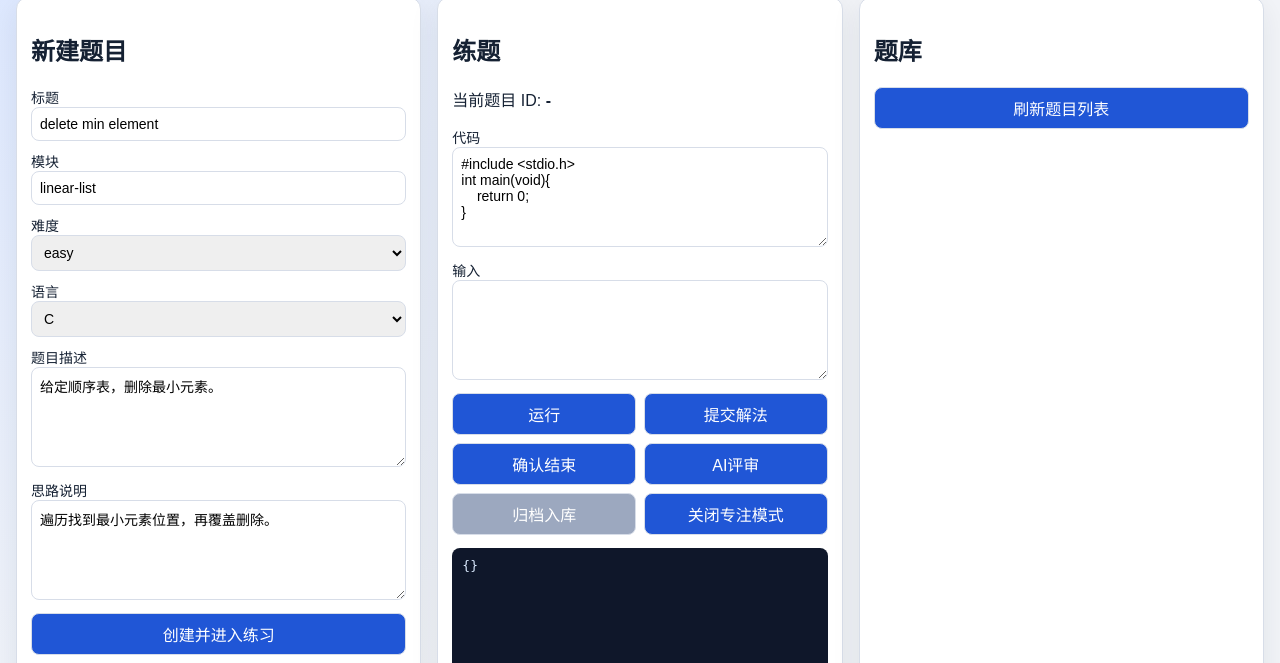
Test: shows low score style and fail badge
Click the button "创建并进入练习" at [219, 634], box [31,613,406,655]
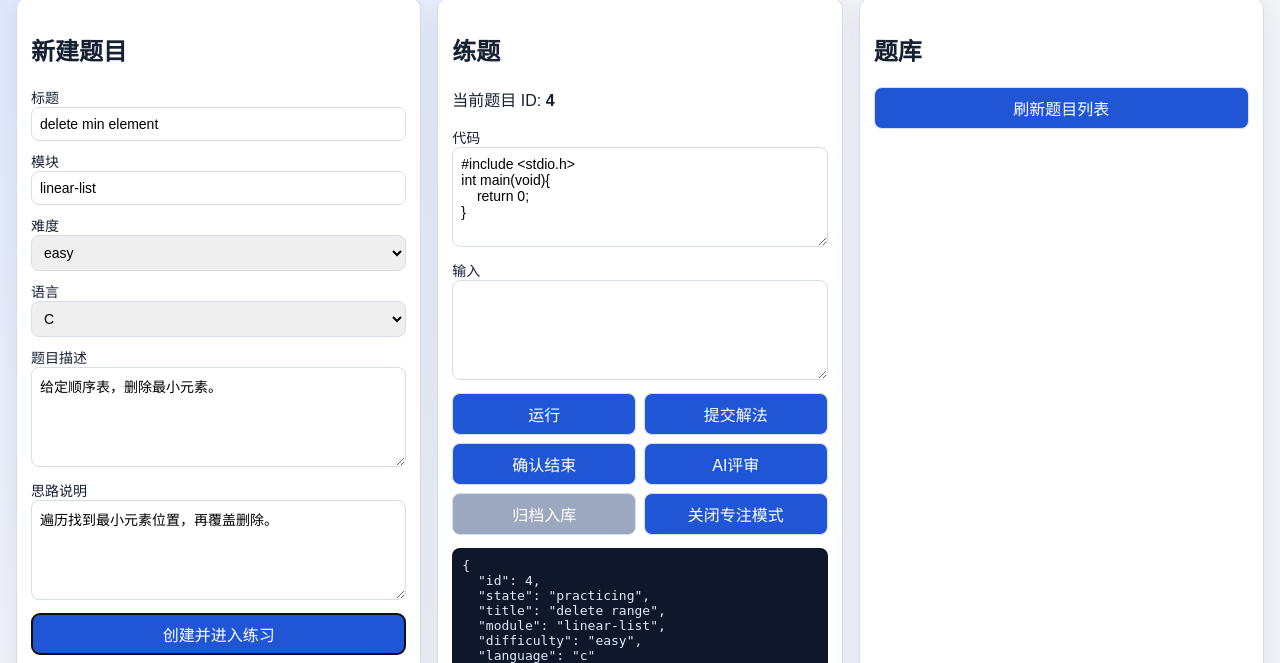
Click the button "AI评审" at [736, 464], box [644,443,828,485]
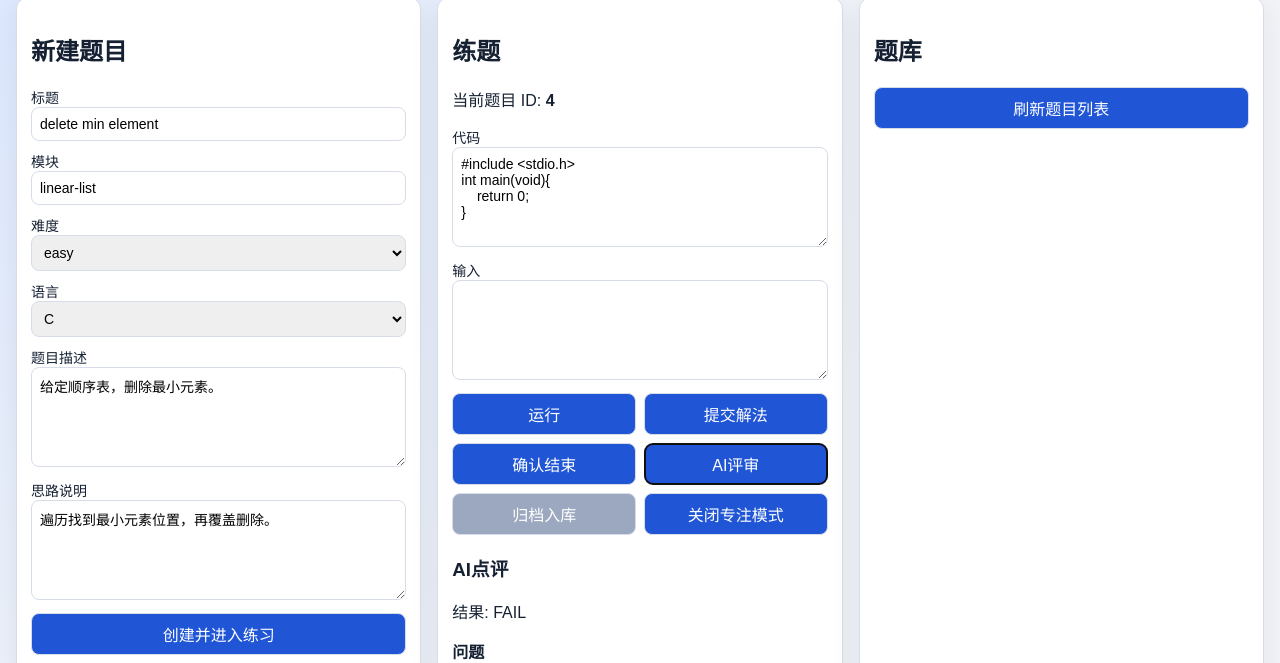
Click the button "关闭专注模式" at [736, 514], box [644,493,828,535]
(page scrolled)
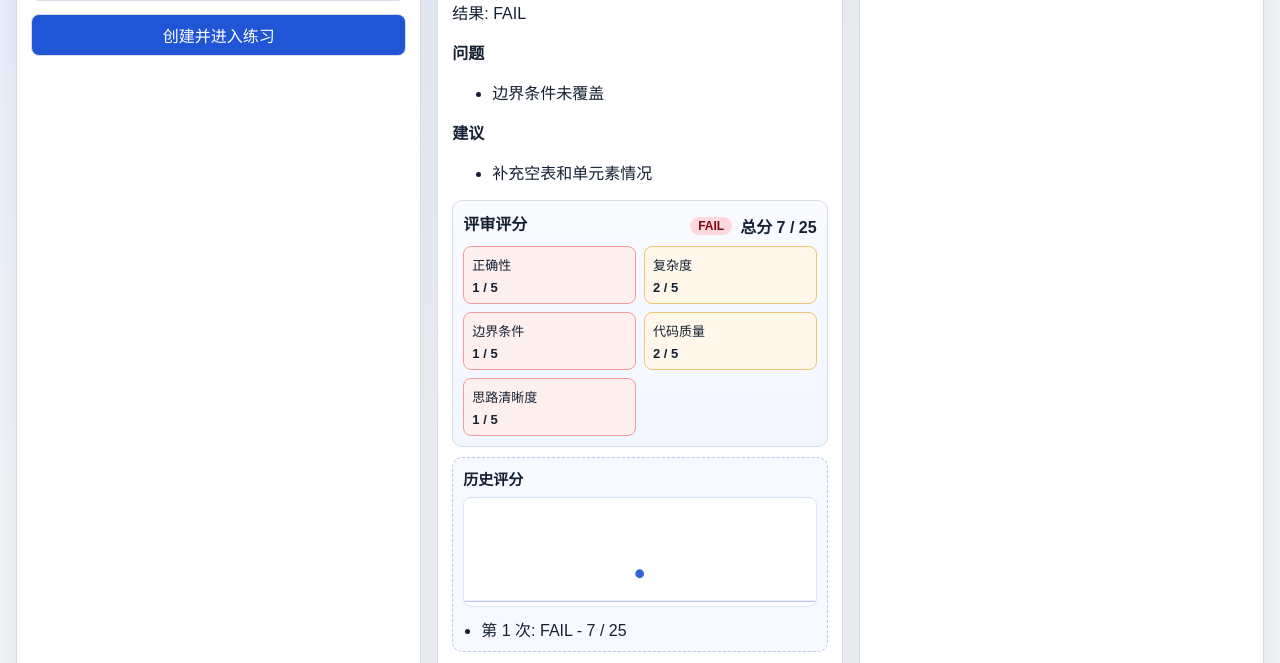
Expected: the text "FAIL" is shown, [690,217,732,235]
